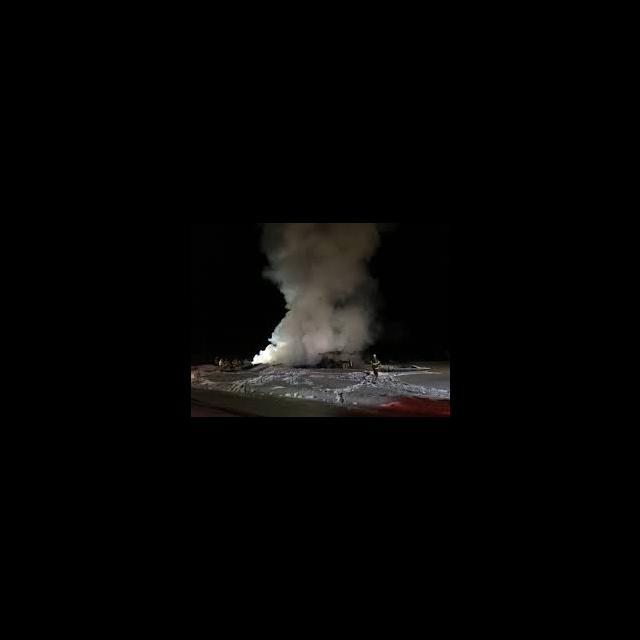Smoke: (252, 225, 379, 365)
